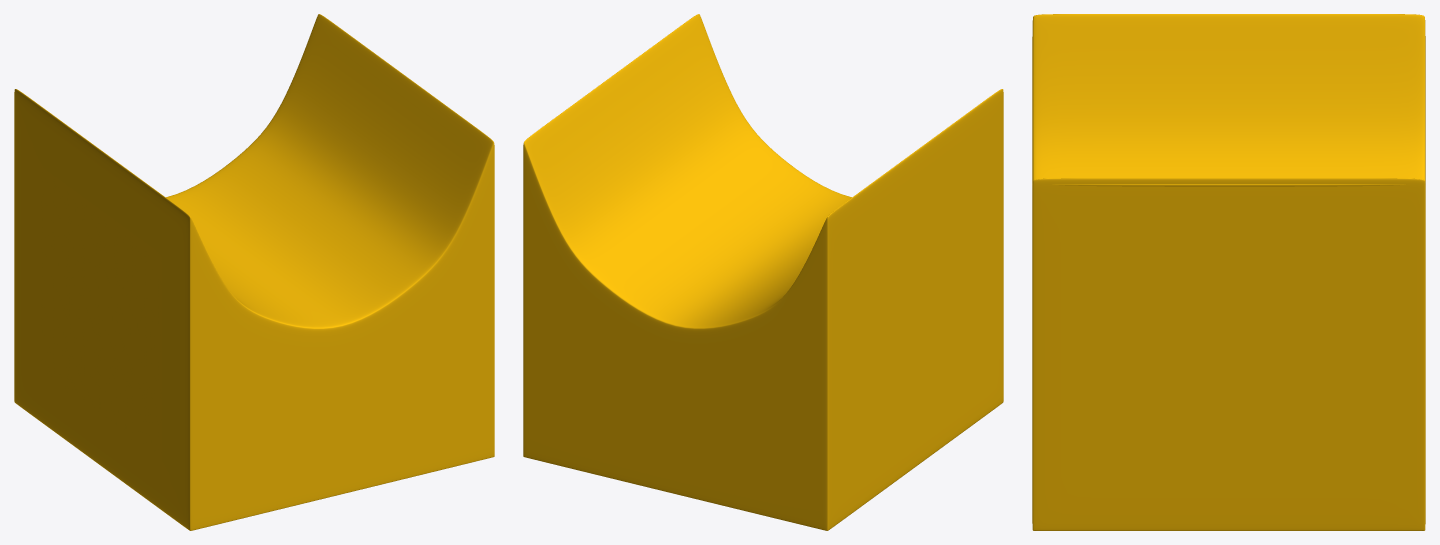
File: Kugelbahn-Cube.glb
3 renders of one model, left to right at view 1: azimuth 30°, elevation 25°; view 2: azimuth 150°, elevation 25°; view 3: azimuth 270°, elevation 25°, orthographic. The views are drawn at different scales.
Parts seen in each view (by area): view 1: Cube; view 2: Cube; view 3: Cube.
Part boxes in pixels (x1,y1,x2,y2): Cube: (14, 14, 494, 530); Cube: (523, 14, 1003, 530); Cube: (1032, 14, 1425, 530).
Size of the model in its own units: 1 by 0.9891 by 1.
